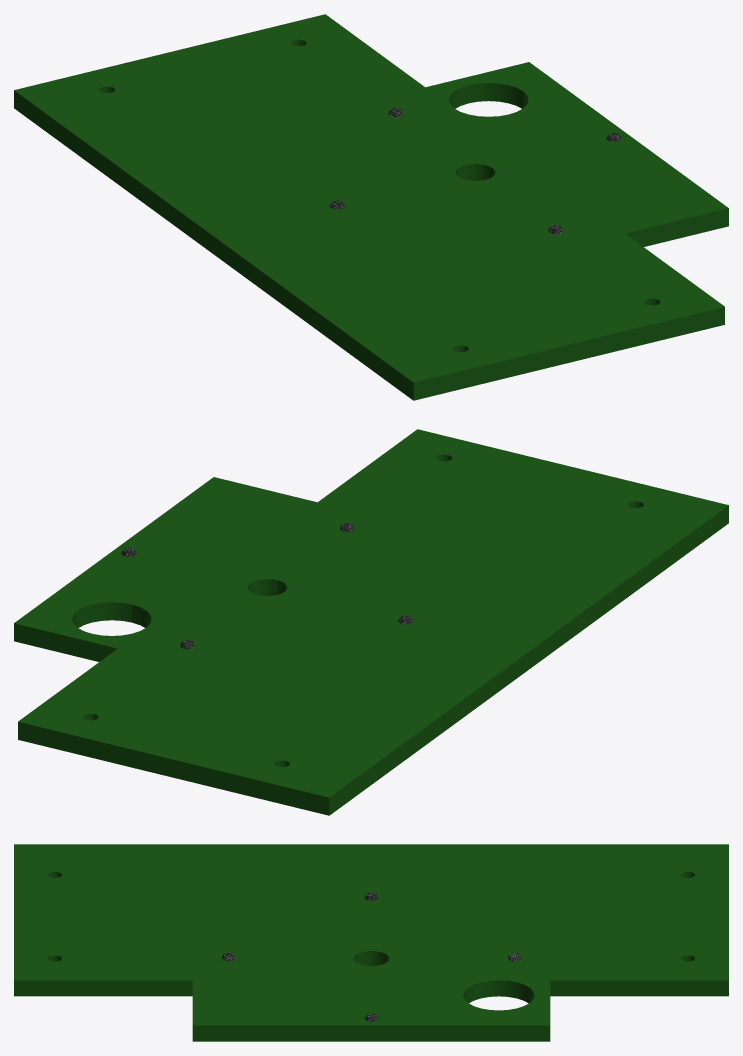
File: green_top.dae
3 renders of one model, top to bottom at view 1: azimuth 30°, elevation 25°; view 2: azimuth 150°, elevation 25°; view 3: azimuth 270°, elevation 25°, orthographic. The views are drawn at different scales.
Parts seen in each view (by area): view 1: group_1; view 2: group_1; view 3: group_1.
Part boxes in pixels (x1,y1,x2,y2): group_1: [14, 14, 728, 400]; group_1: [14, 429, 728, 815]; group_1: [14, 844, 728, 1041].
Bounding box in the file's own units: 6 × 10 × 0.3.
4 materials, 2 textured.
